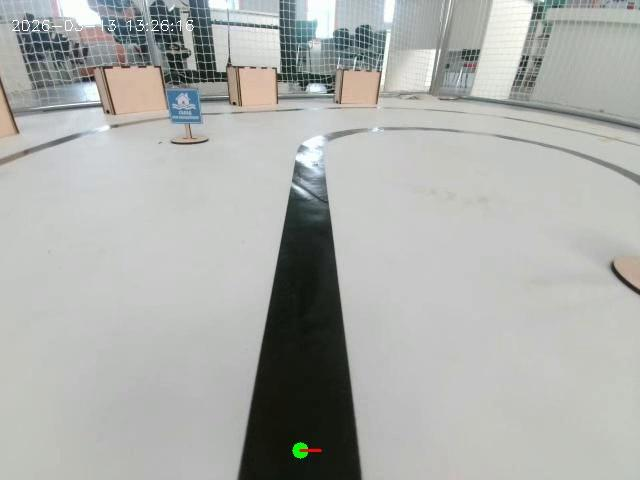flood: (153, 72, 218, 161)
